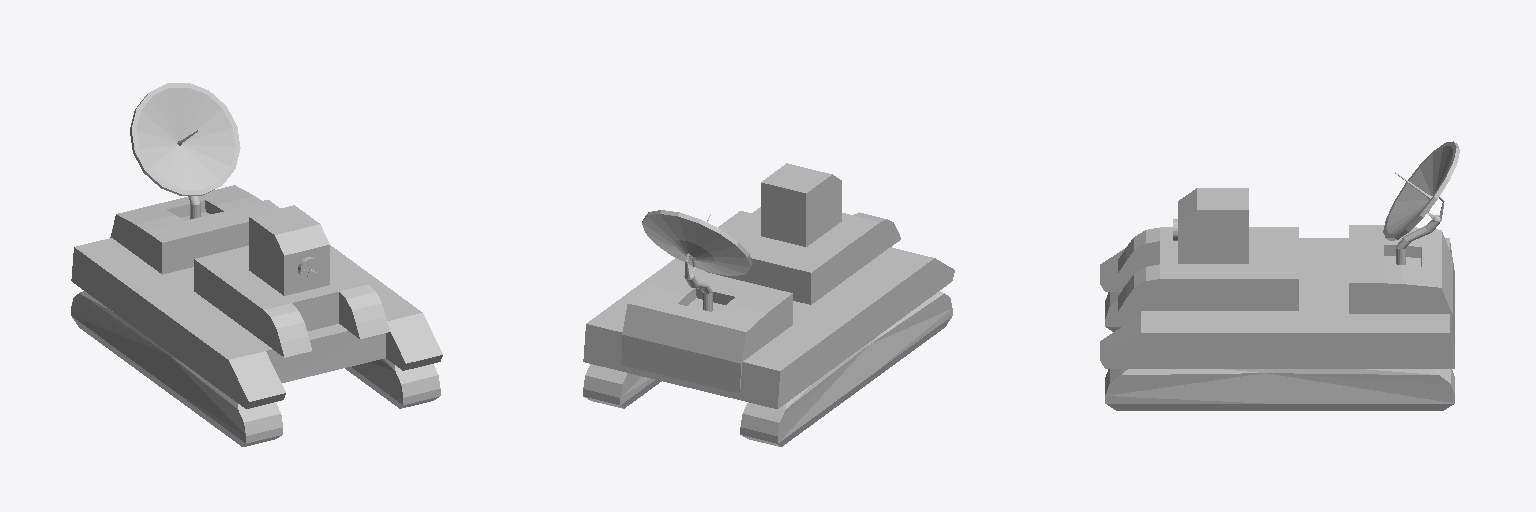
Rendered from rover.obj.
The picture shows the model from 3 angles: view 1: azimuth 30°, elevation 25°; view 2: azimuth 150°, elevation 25°; view 3: azimuth 270°, elevation 25°; orthographic projection.
Parts seen in each view (by area): view 1: ROVER; view 2: ROVER; view 3: ROVER.
Boxes of the visible parts, <box> form: ROVER: <box>71,83,442,446</box>; ROVER: <box>583,163,954,446</box>; ROVER: <box>1100,141,1459,410</box>.
Bounding box in the file's own units: 2.04 × 2.17 × 3.28.